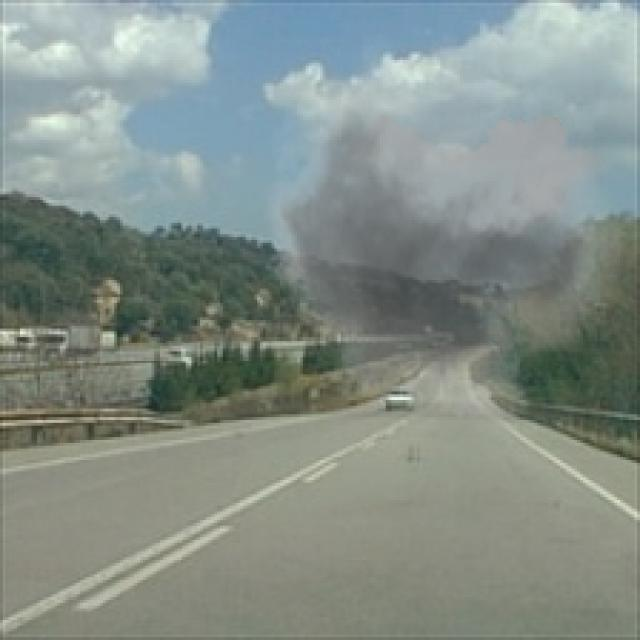smoke: (251, 31, 623, 440)
